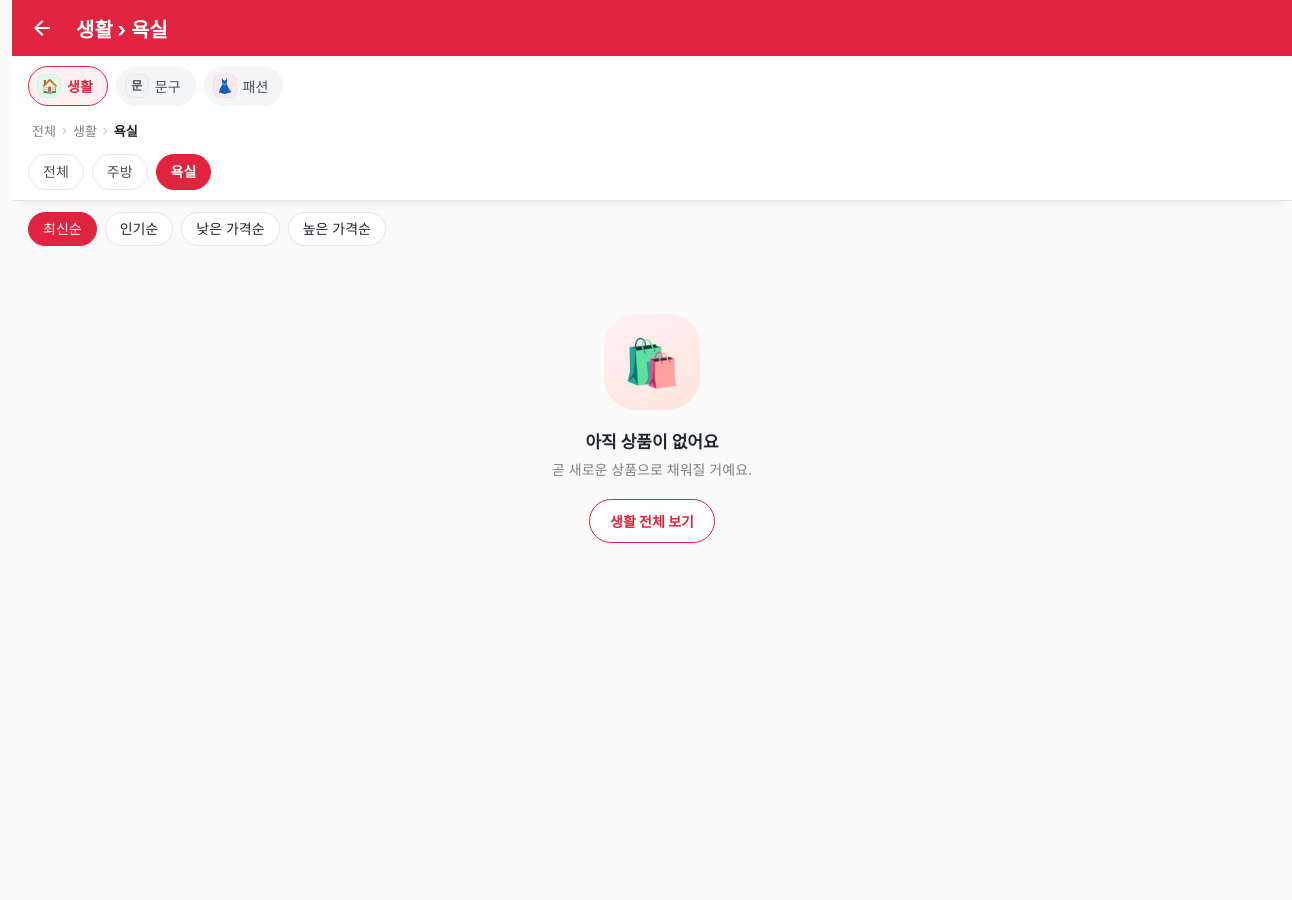
Test: ProductListPage › shows a friendly empty state with a way to the whole root
Expected: the text "아직 상품이 없어요" is shown, [585, 432, 719, 452]
Click the button "생활 전체 보기". click: (652, 521)
box: [589, 499, 715, 543]
(page scrolled)
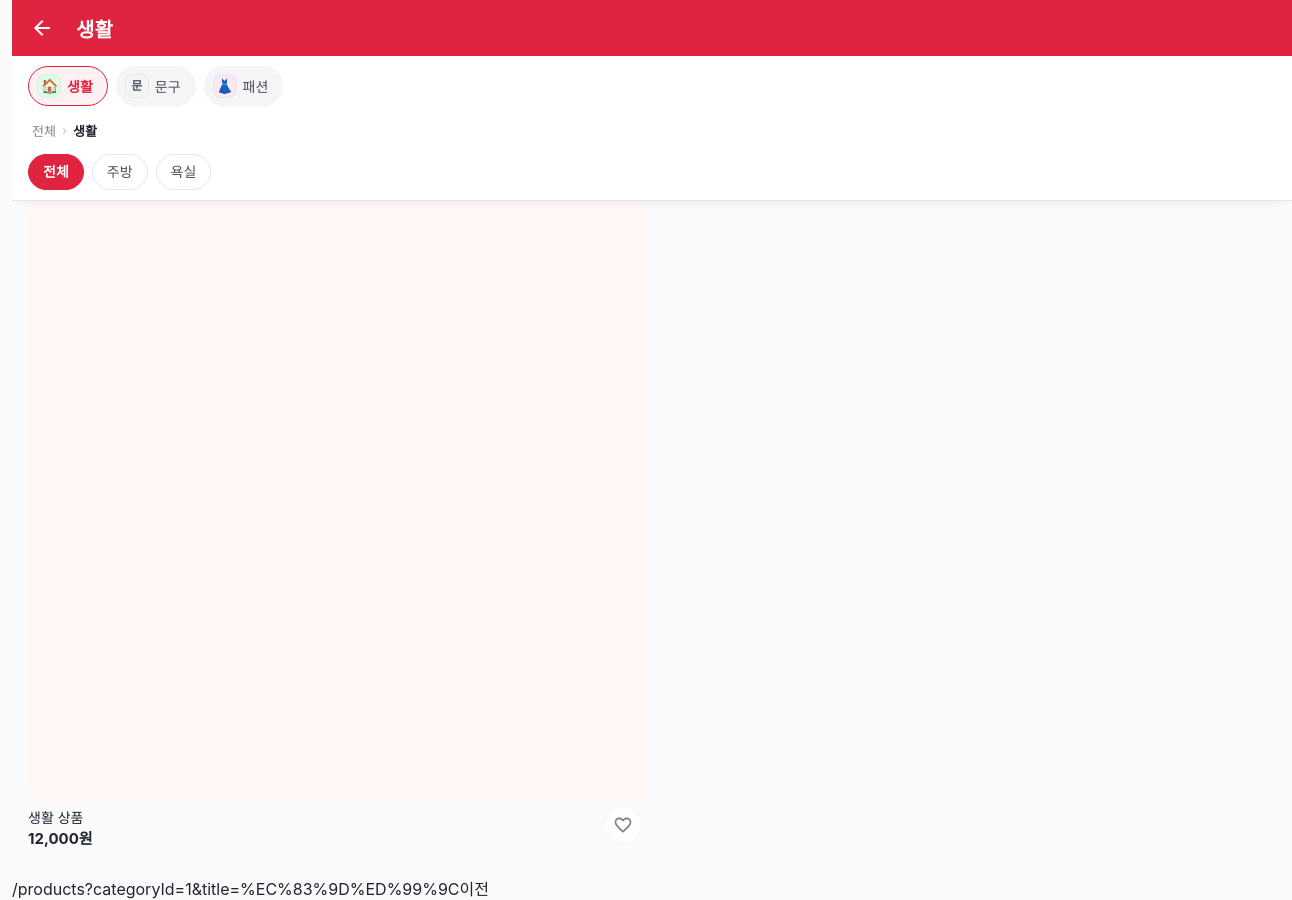
Expected: the text "생활 상품" is shown, [28, 809, 84, 826]
